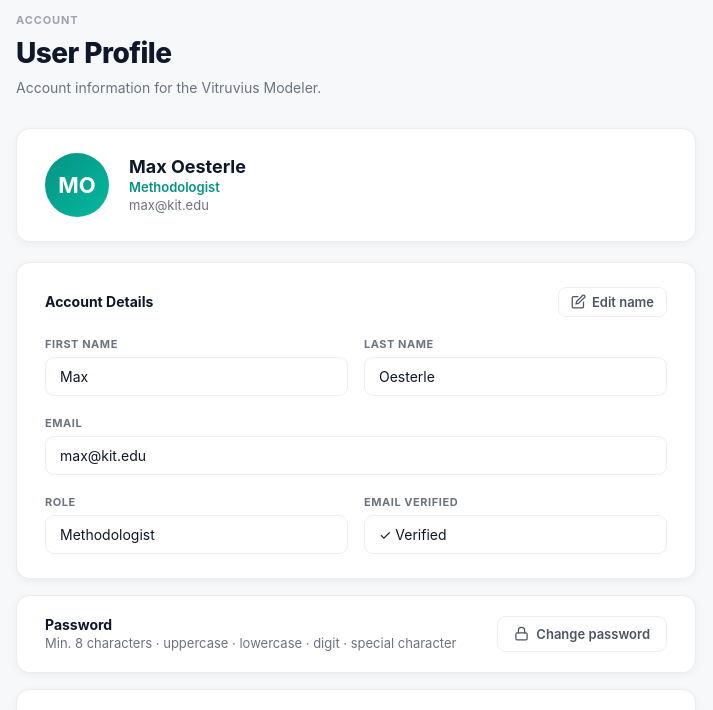
Test case: ProfileView › shows error banner when updateUserName fails
The image size is (713, 710).
Expected: the text "max@kit.edu" below "Max Oesterle" is shown, [129,197,209,213]
What coordinates should you click on to do the following:
click the button "Edit name"
I would click on:
 (612, 302)
Its box is [558,287,667,317].
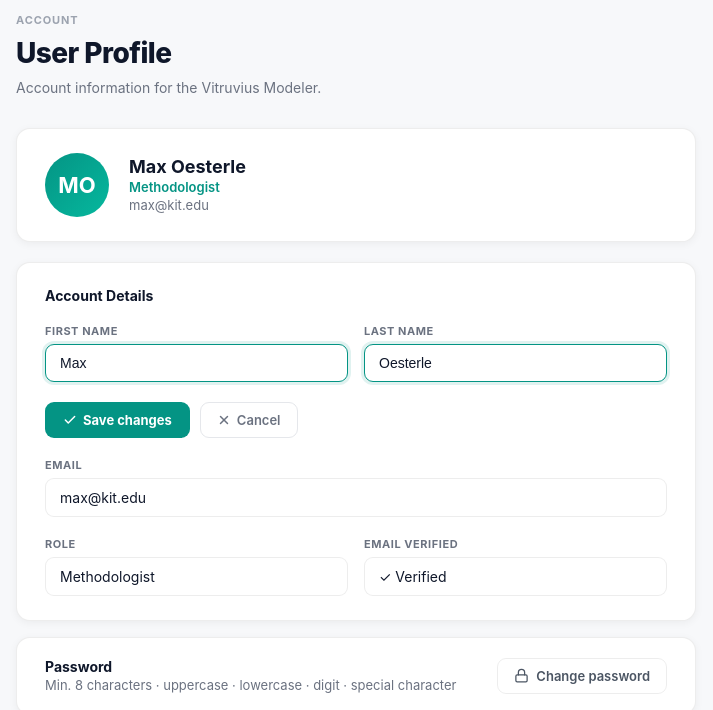
What coordinates should you click on to do the following:
click the button "Save changes"
I would click on:
 (117, 420)
Its box is [45,402,190,438].
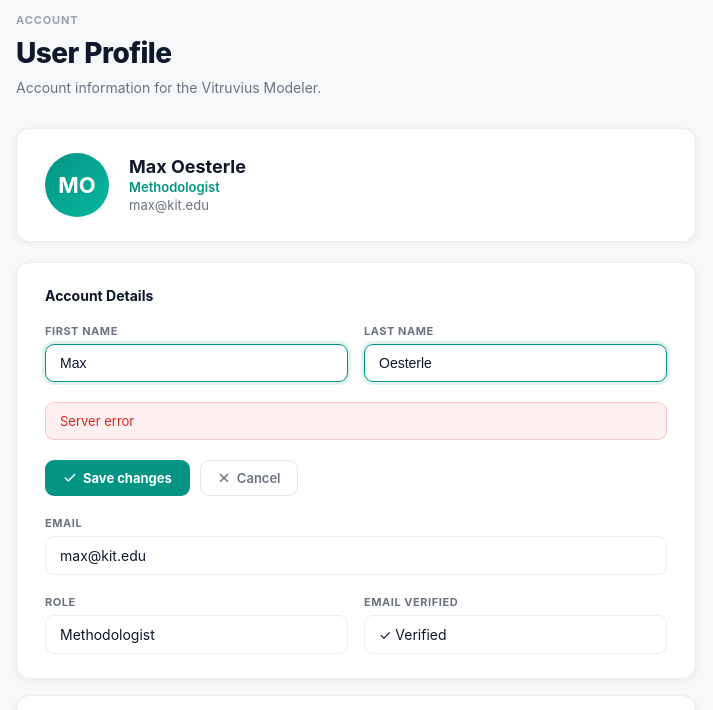
Expected: the text "Server error" is shown, [45,402,667,440]
